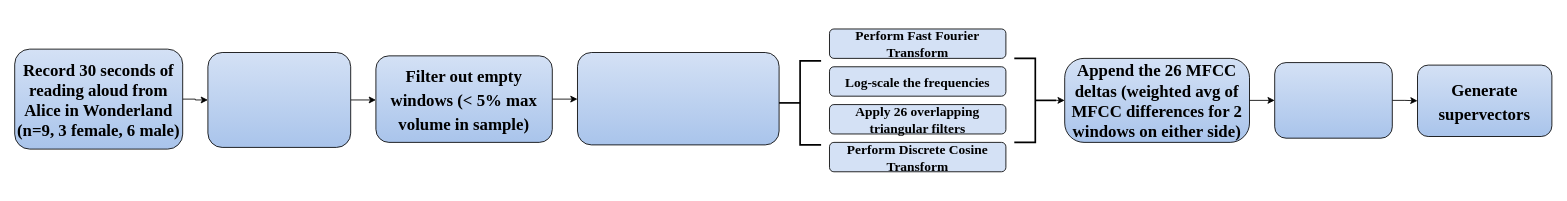
Image size: 1567x201. Some labels were removed from this diagram. Here are the shapes that lost their labels. From the top down, the centre of each, then its label:
(279,99): Split each sample into overlapping 30-ms windows
(678,98): Find the 26 Mel Frequency Cepstral Coefficients of each window
(1333,100): Log-scale the MFCCs and MFCC deltas
